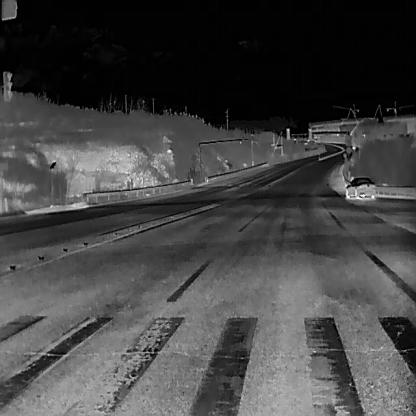car: (344, 176, 376, 199)
truck: (351, 141, 356, 150), (315, 137, 320, 142)
